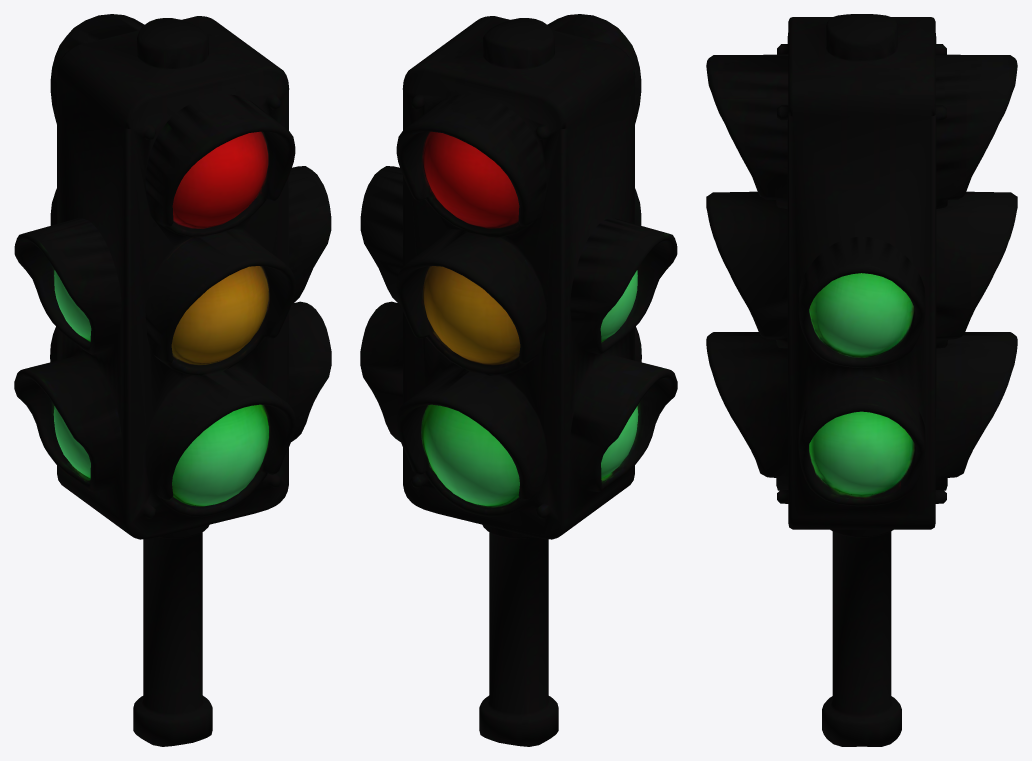
Rendered from traffic_light_b1babccc_v4.glb.
The picture shows the model from 3 angles, left to right: view 1: azimuth 30°, elevation 25°; view 2: azimuth 150°, elevation 25°; view 3: azimuth 270°, elevation 25°; orthographic projection.
Visible parts, largest first — view 1: material; view 2: material; view 3: material.
Part boxes in pixels (bbox=[...]): material: bbox=[14, 14, 331, 746]; material: bbox=[360, 14, 677, 746]; material: bbox=[706, 14, 1017, 746].
Size of the model in its own units: 0.7995 by 1.9 by 0.7565.
Materials: 1 (1 with a texture image).
